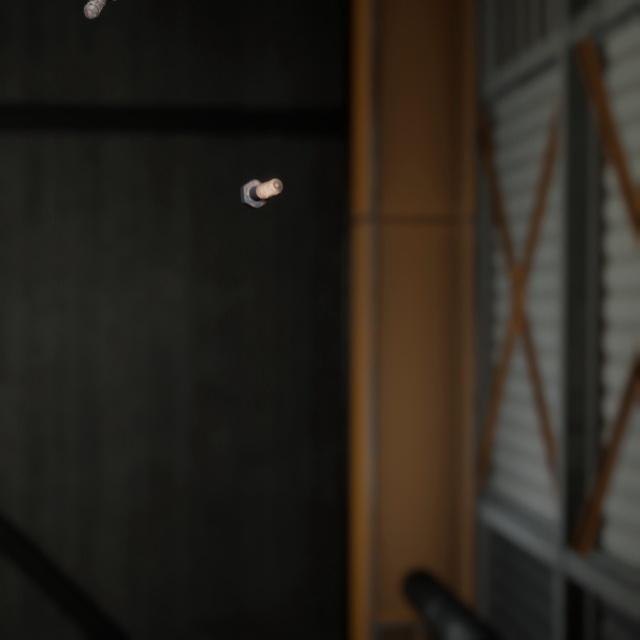bolt: (235, 158, 287, 199)
